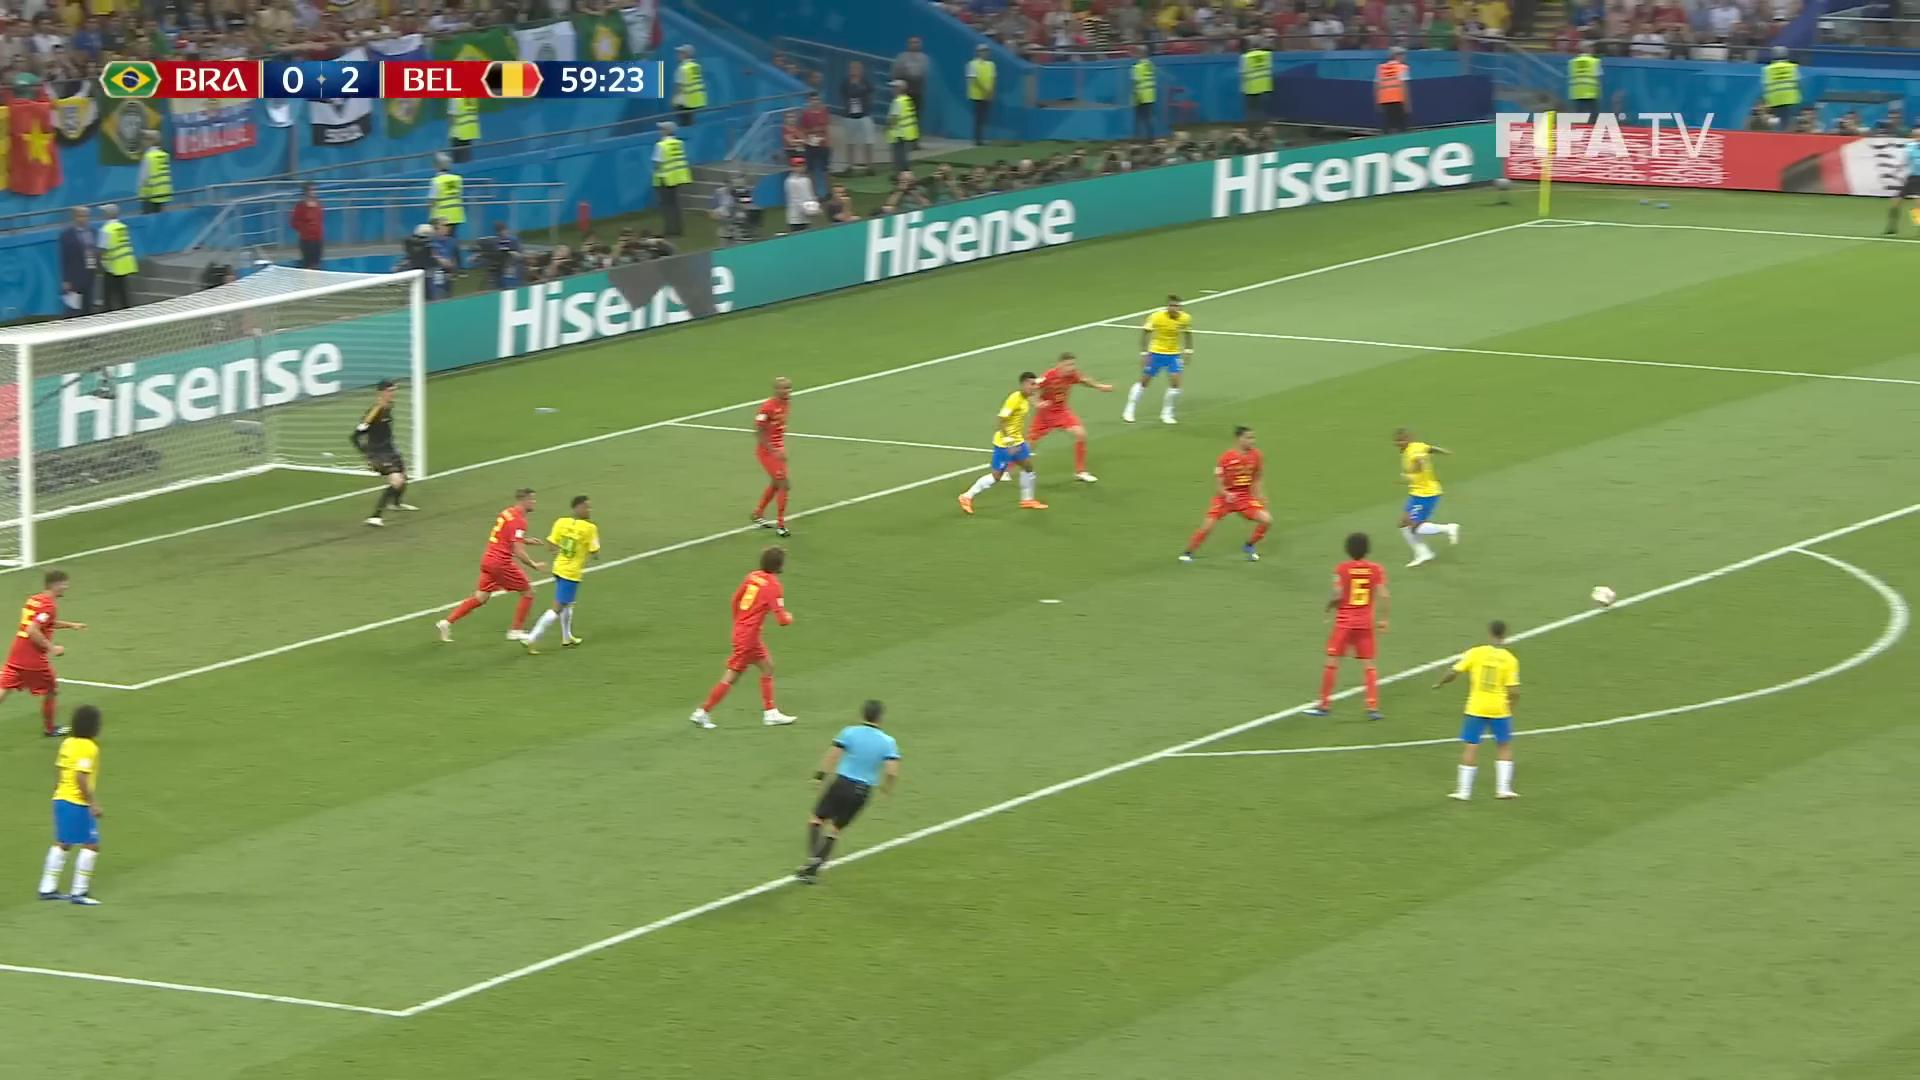ball: (1590, 583, 1616, 609)
goalkeeper: (349, 376, 420, 526)
player: (687, 545, 798, 729), (433, 486, 546, 643), (1302, 530, 1391, 721), (1430, 618, 1522, 800), (0, 567, 87, 737), (1006, 350, 1113, 484), (37, 702, 105, 905), (956, 370, 1049, 515), (1177, 423, 1272, 563), (519, 493, 601, 654), (1390, 424, 1460, 568), (1120, 293, 1194, 425), (749, 374, 794, 537)
referee: (793, 697, 901, 884)
